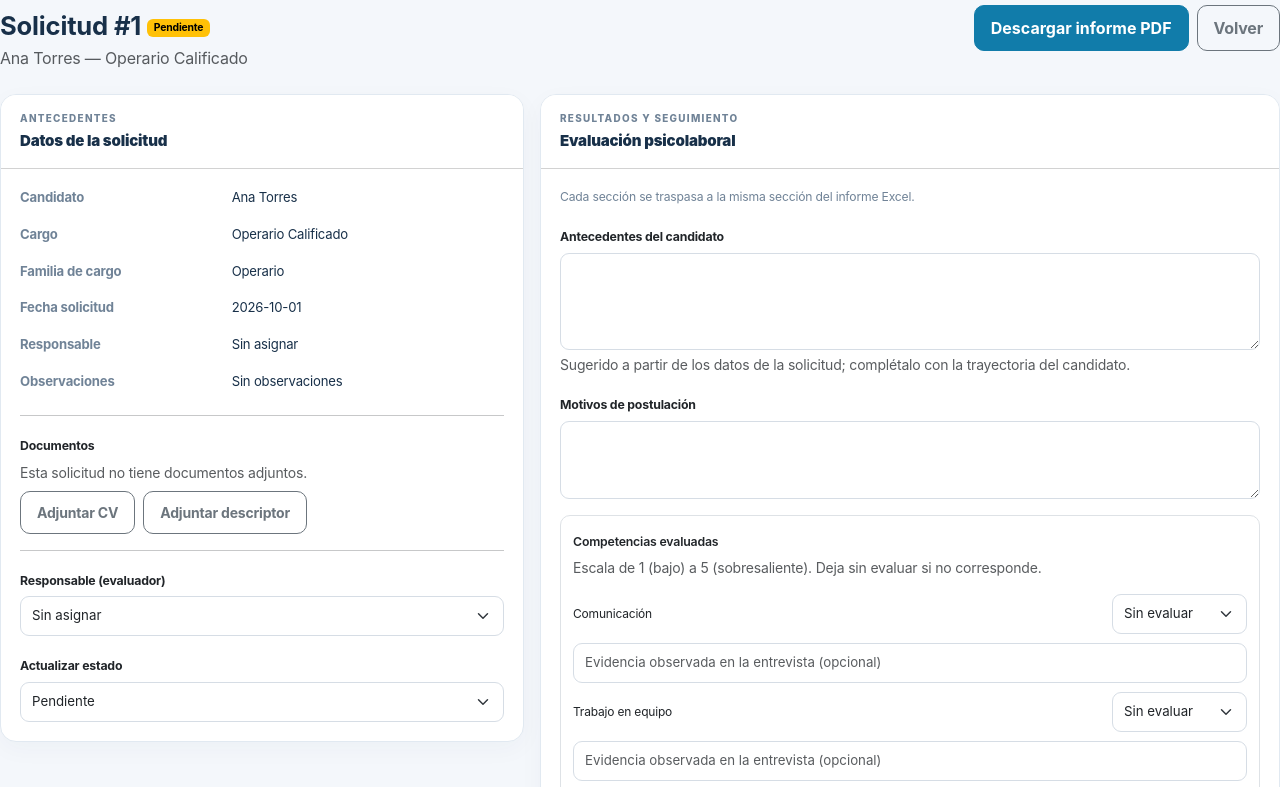
Test: SolicitudDetallePage › guarda la evaluación
Check: the heading "Solicitud #1 Pendiente" is shown, box 0,10 -> 210,41
Select "4 / 5" in the dropdown named "Puntaje de Comunicación" at [1180, 614], box 1112,594 -> 1247,634
(page scrolled)
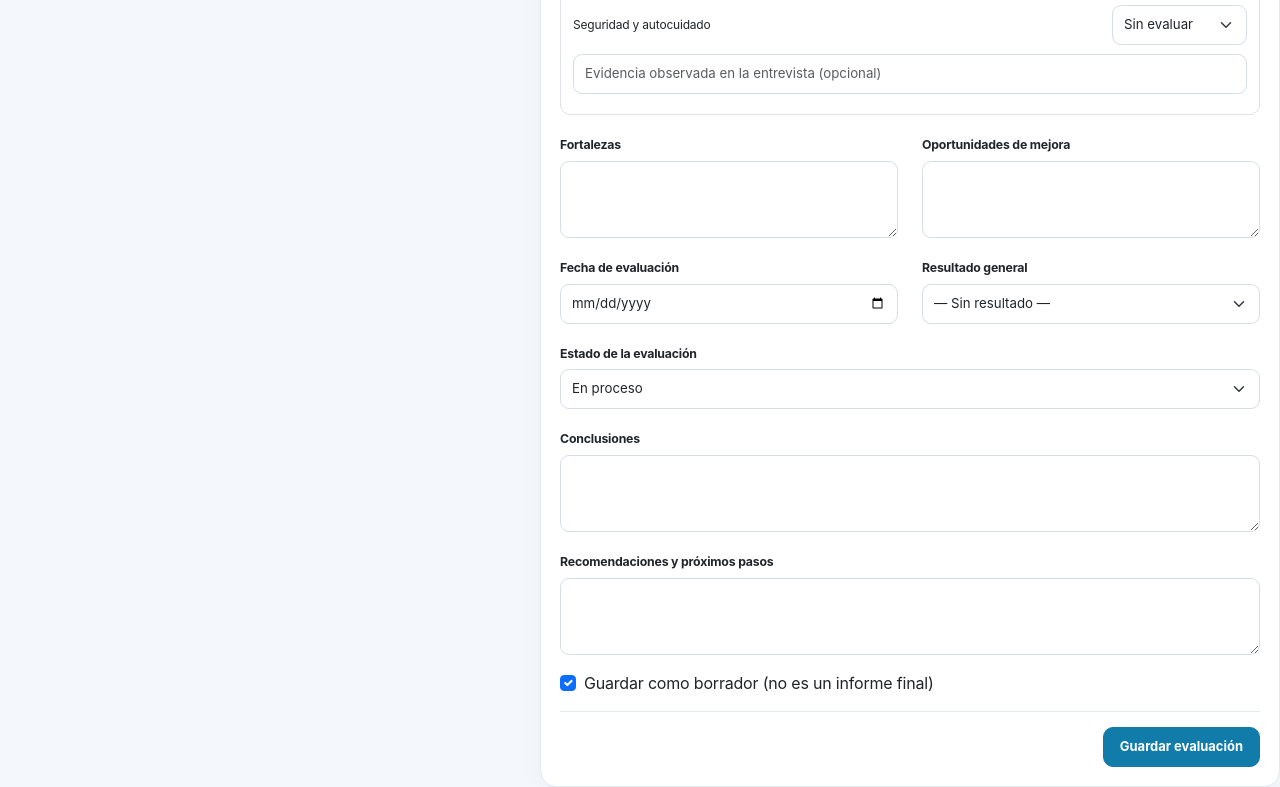
Click the button "Guardar evaluación" at [1181, 747], box 1103,728 -> 1260,767
(page scrolled)
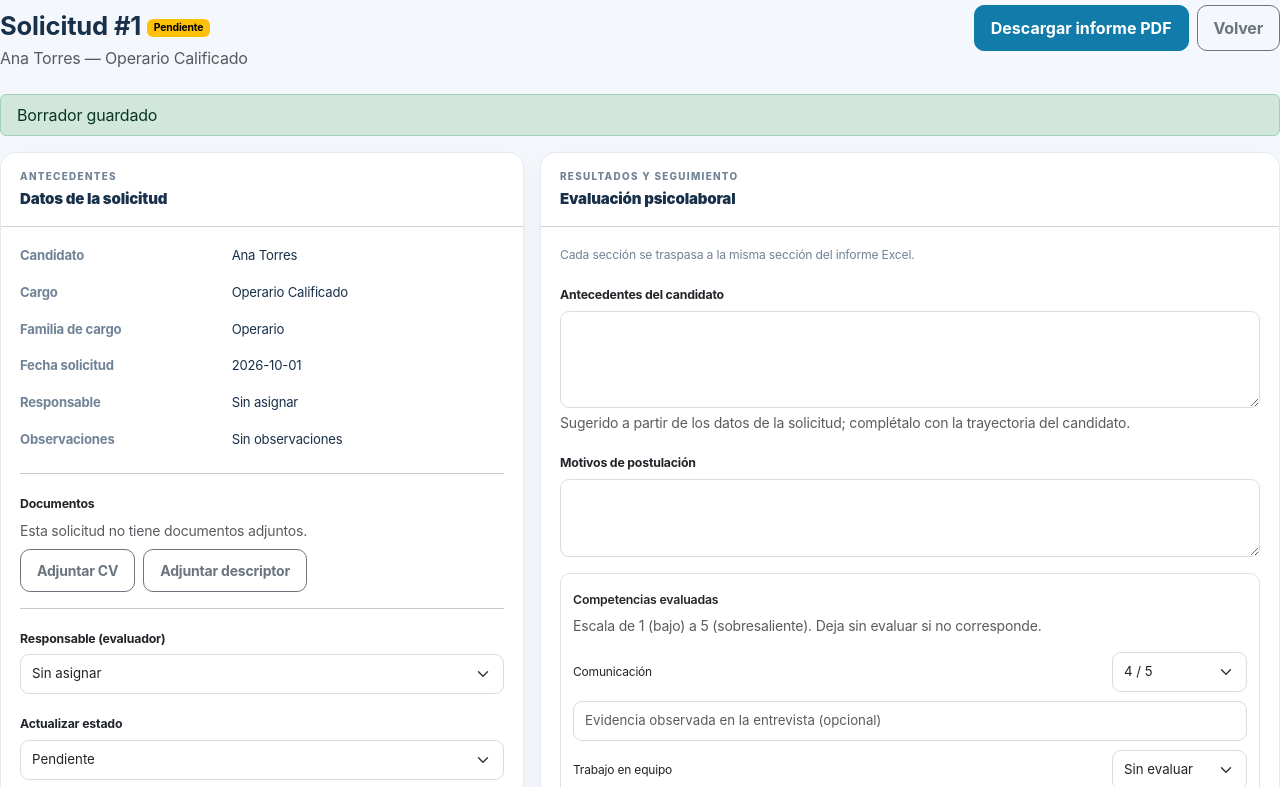
Check: the text "Borrador guardado" is shown, box 0,94 -> 1279,136
